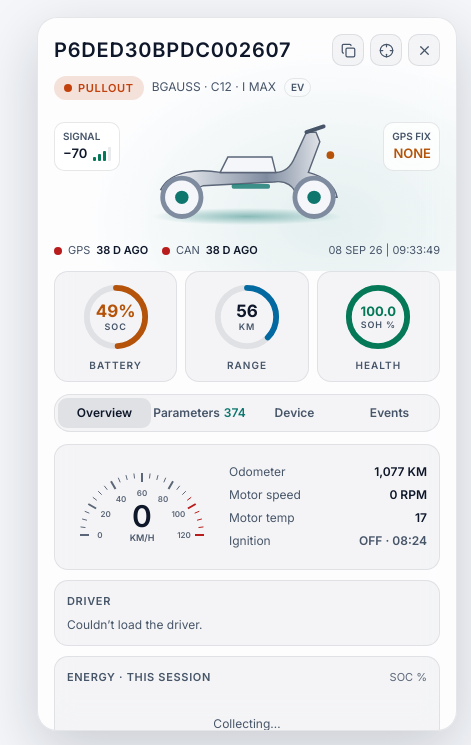
it: F07-T5: vehicle details panel › parameters: search (label or key), chips and the tab count
expect the text with test id "details-param-count" reads "374": met, box [224,405,246,420]
Click the tab "Parameters374".
click(200, 413)  # box [153,398,246,428]
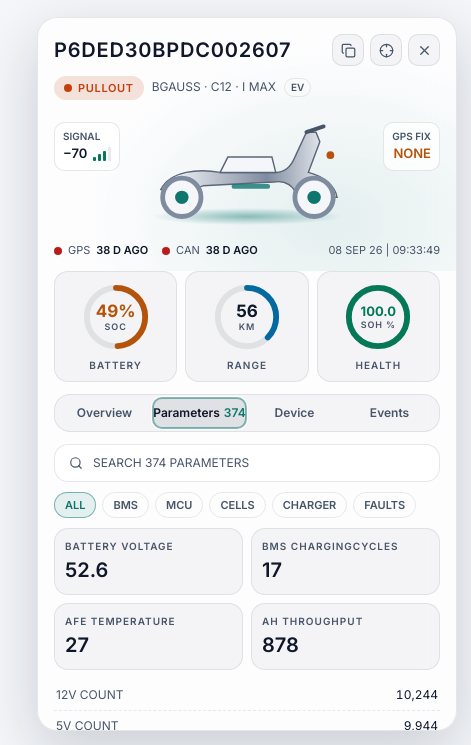
Type "cell_voltage" into the search field named "Search parameters".
click(259, 463); type("cell_voltage")  # box [93,455,425,471]
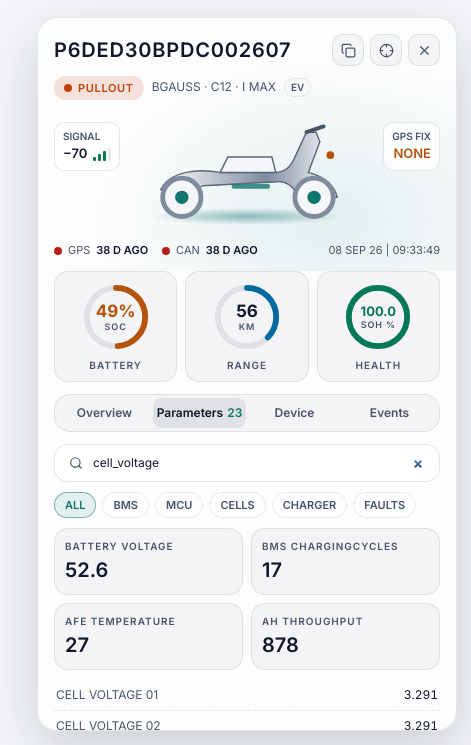
expect the text with test id "details-param-count" reads "23": met, box [227,405,242,420]
Replace the text in the search field with "Time To" at (259, 463), box [93,455,425,471]
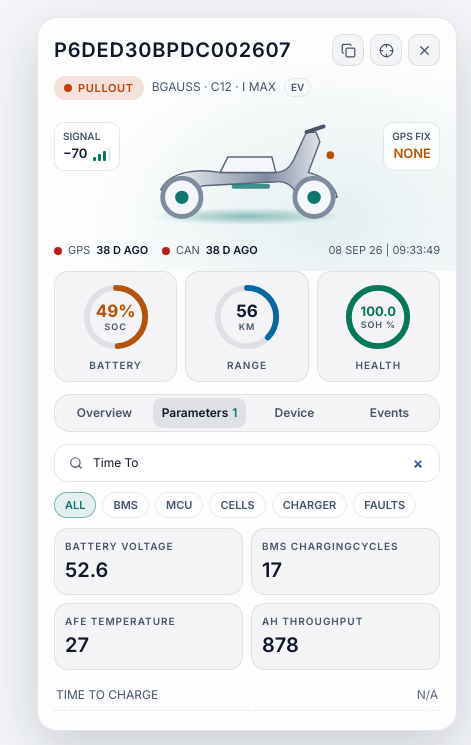
expect the row shows "Time To Charge": met, box [56,687,158,702]
expect the row shows "N/A": met, box [417,687,438,702]
Clear the search field at (259, 463), box [93,455,425,471]
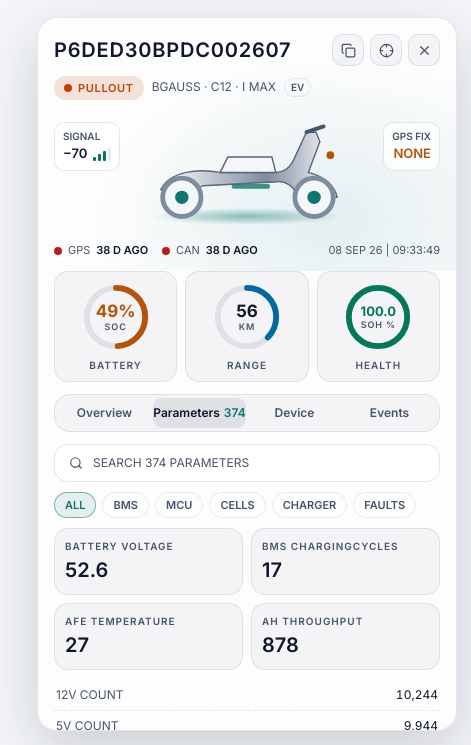
Click the button "CELLS".
click(238, 505)  # box [209,492,266,518]
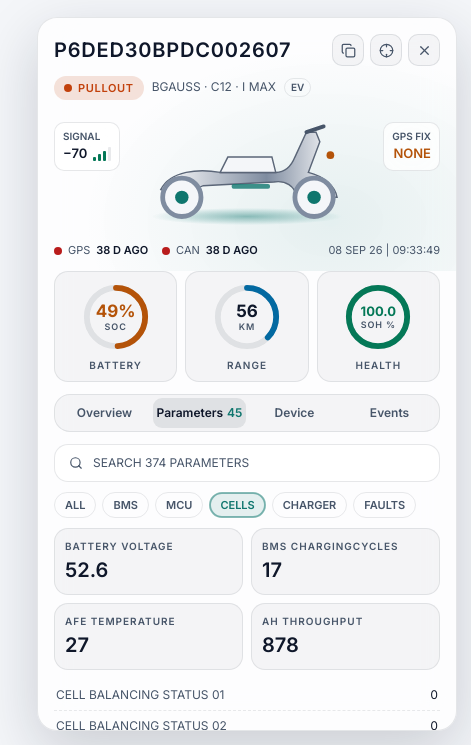
expect the text with test id "details-param-count" reads "45": met, box [227,405,242,420]
